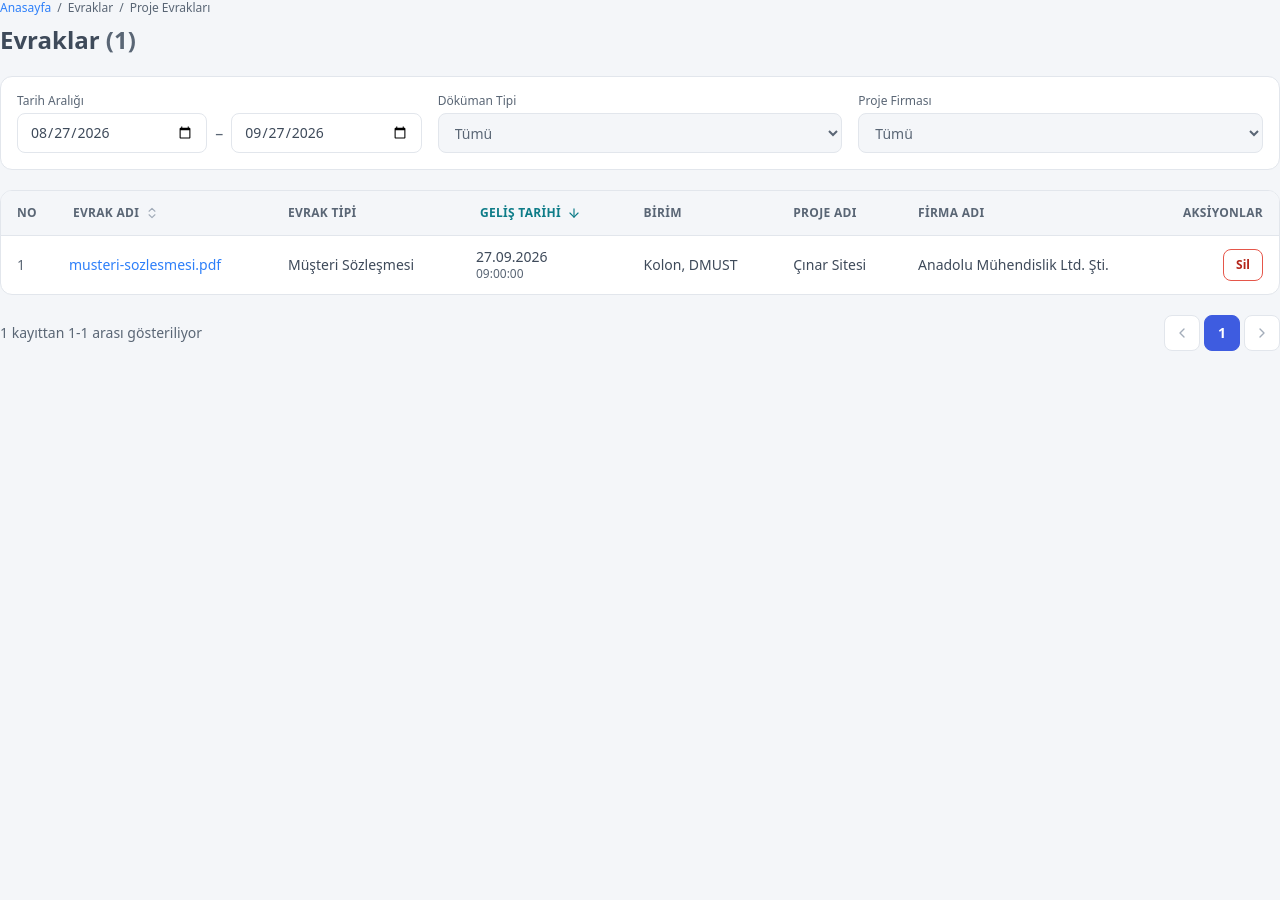
DocumentListPage › "Sil" önce onay sorar, onaylanınca satırı düşürür
Expected: the table is shown, [1, 191, 1279, 294]
Click the button "Sil": (1243, 265) [1223, 249, 1263, 281]
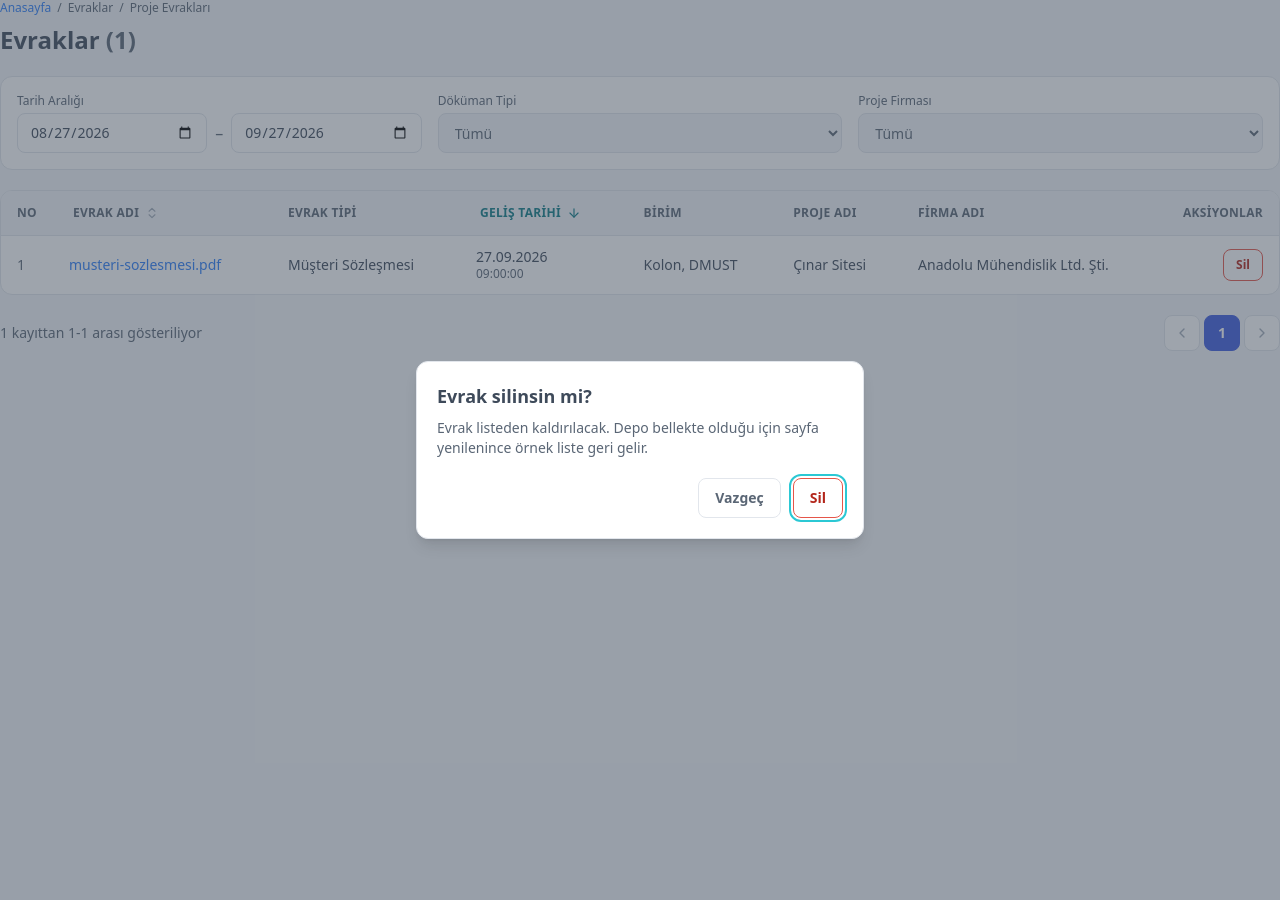
Click the button "Sil": (818, 498) [793, 478, 843, 518]
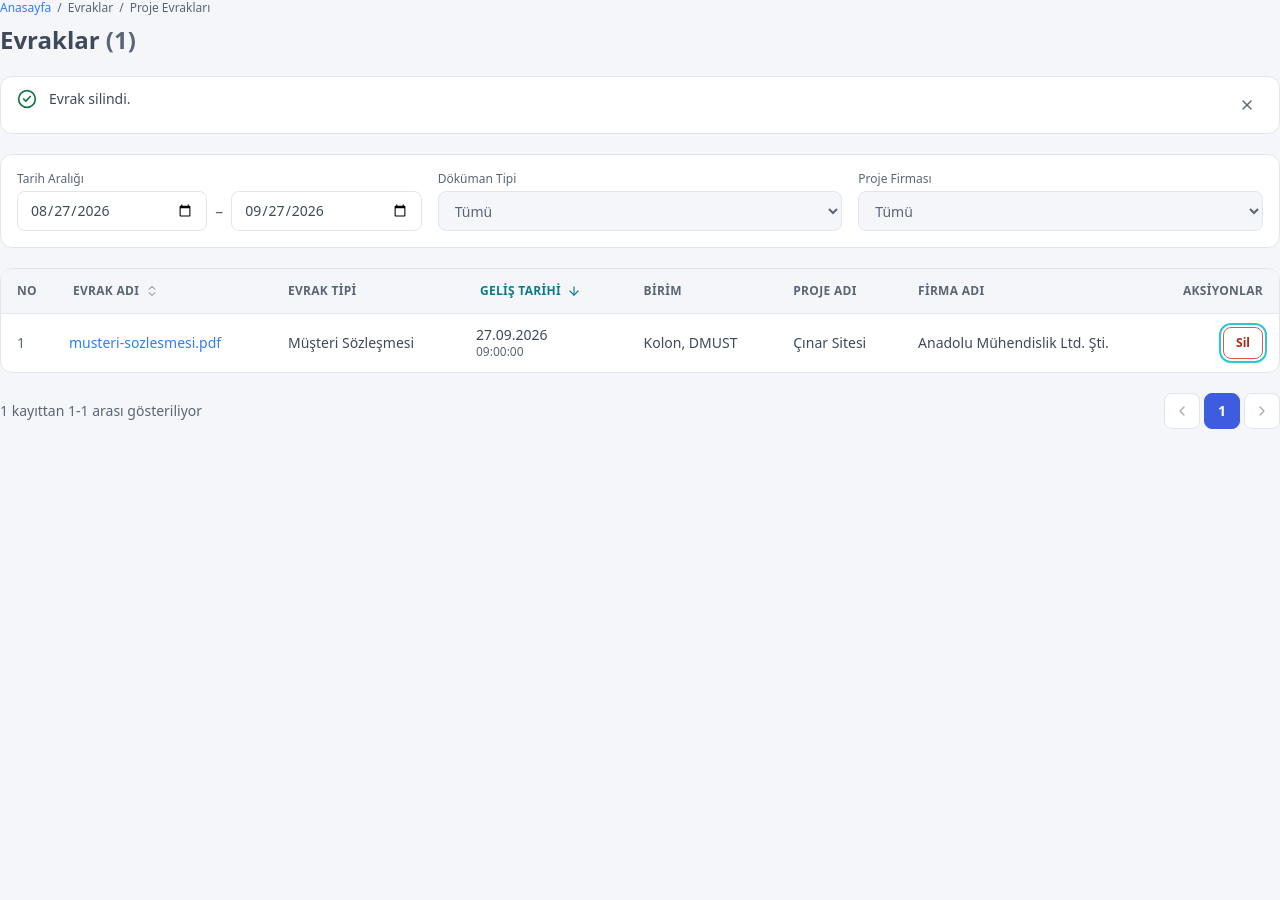
Now the text "Evrak silindi." is shown, box [49, 89, 130, 108]
